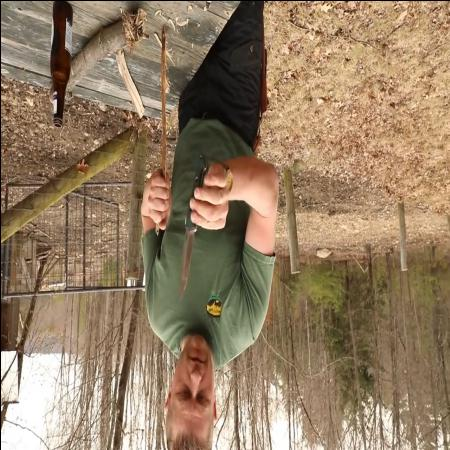long weapon: (171, 174, 217, 312)
